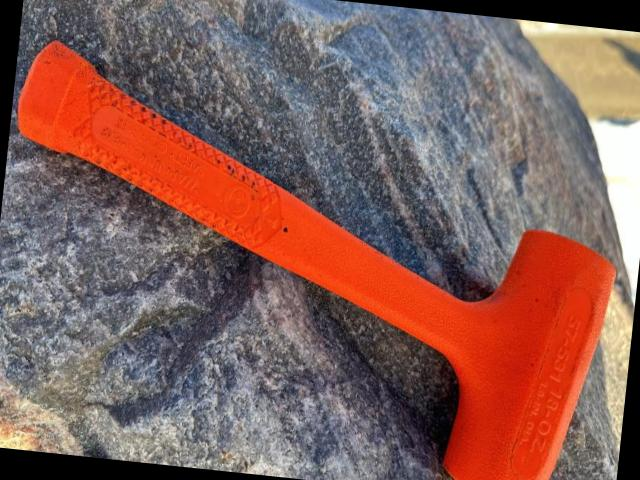hammer: (0, 39, 636, 480)
